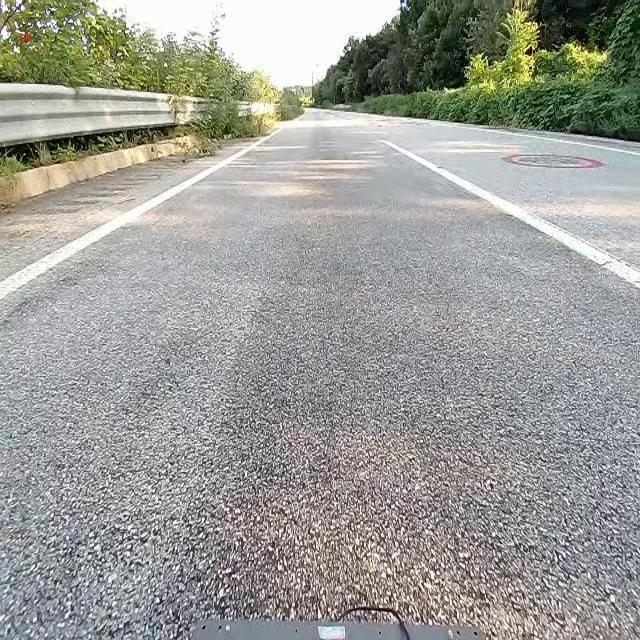Lane: (0, 122, 285, 300), (0, 129, 279, 300), (375, 132, 640, 295), (380, 140, 639, 288)
